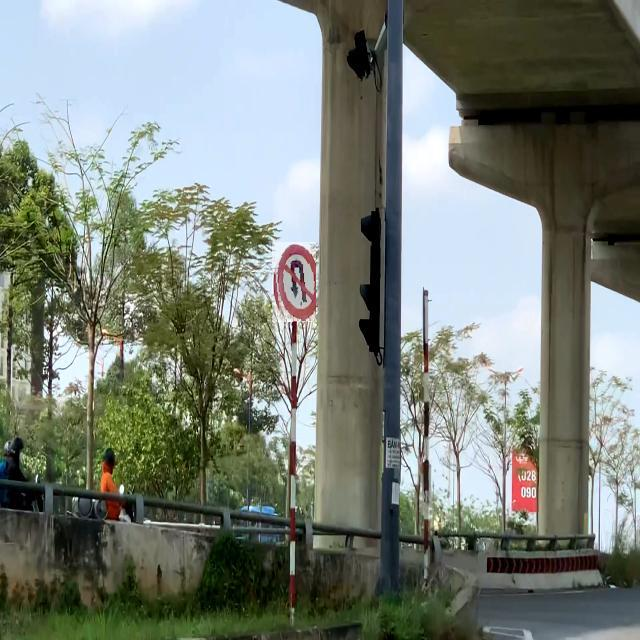P-124a: (273, 242, 317, 322)
